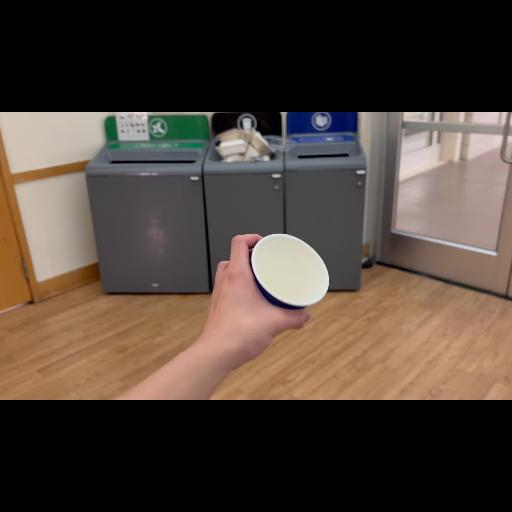lp_paper_cup: (235, 225, 337, 331)
